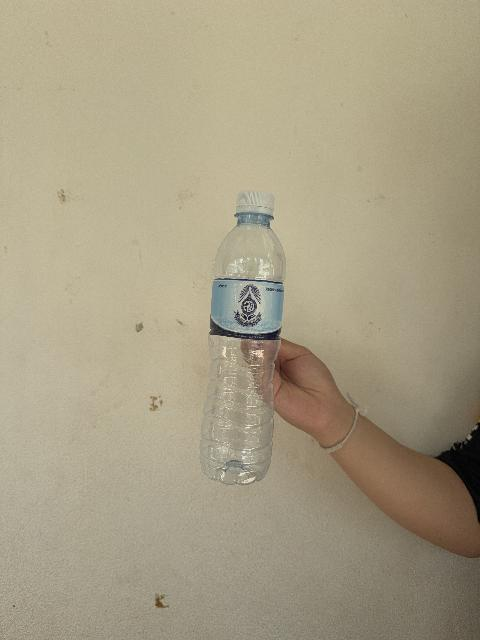bottle: (200, 192, 286, 484)
